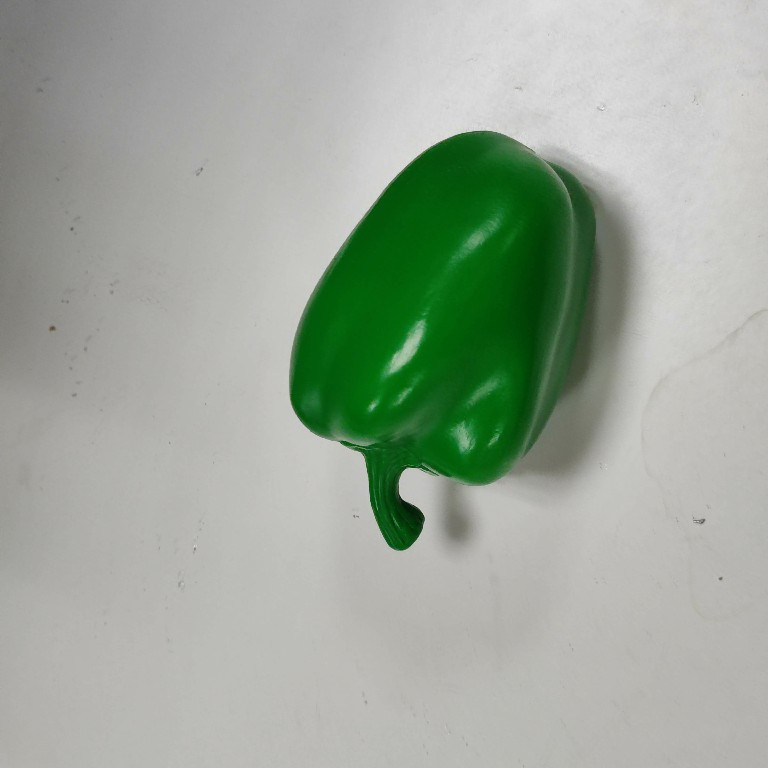fruit_pepper: (281, 126, 583, 555)
